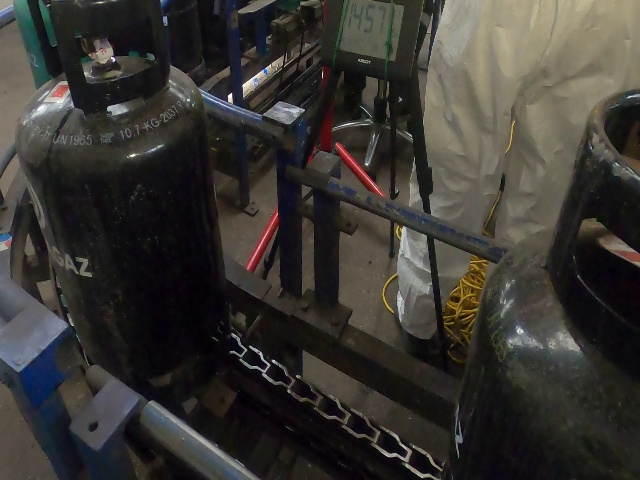gas_bottle: (2, 2, 640, 480)
